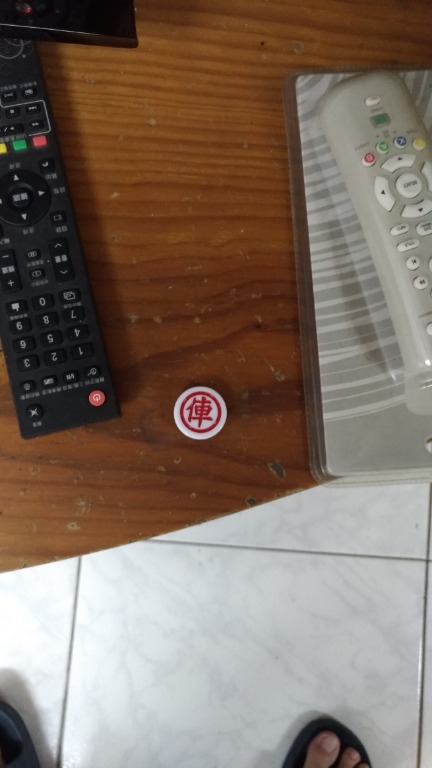r-rook: (162, 374, 242, 460)
